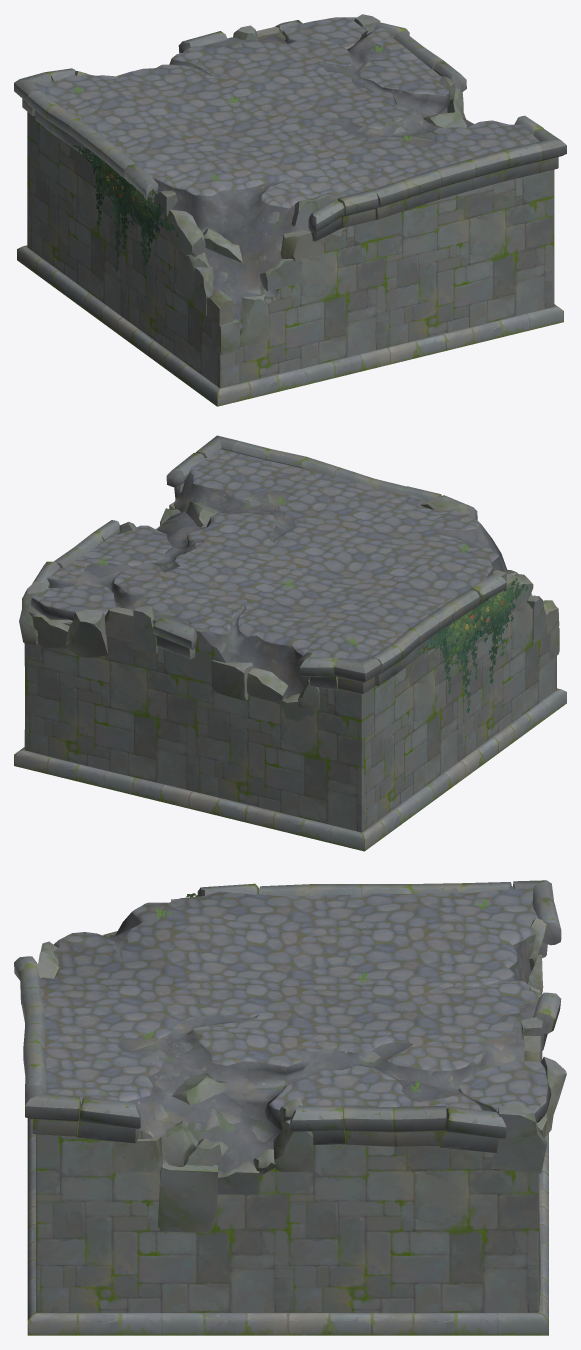
The model's file is Area_MdBuild_SdPlatform10_Group.fbx.
3 renders of one model, top to bottom at view 1: azimuth 30°, elevation 25°; view 2: azimuth 150°, elevation 25°; view 3: azimuth 270°, elevation 25°, orthographic. The views are drawn at different scales.
Visible parts, largest first — view 1: Area_MdBuild_SdPlatform10_Lod0, Stages_LYLvy03_Vo (1); view 2: Area_MdBuild_SdPlatform10_Lod0, Stages_LYLvy03_Vo (1); view 3: Area_MdBuild_SdPlatform10_Lod0.
Part boxes in pixels (<box>): Area_MdBuild_SdPlatform10_Lod0: <box>14,14,566,406</box>; Stages_LYLvy03_Vo (1): <box>73,145,178,280</box>; Area_MdBuild_SdPlatform10_Lod0: <box>14,435,566,851</box>; Stages_LYLvy03_Vo (1): <box>414,577,528,713</box>; Area_MdBuild_SdPlatform10_Lod0: <box>14,880,566,1335</box>.
Size of the model in its own units: 21.8 by 10.6 by 21.99.
7 materials, 7 textured.
